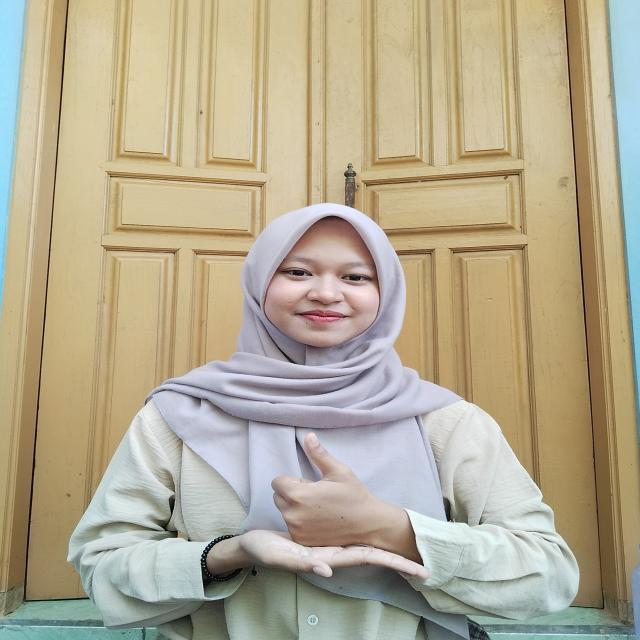cantik: (220, 412, 430, 582)
